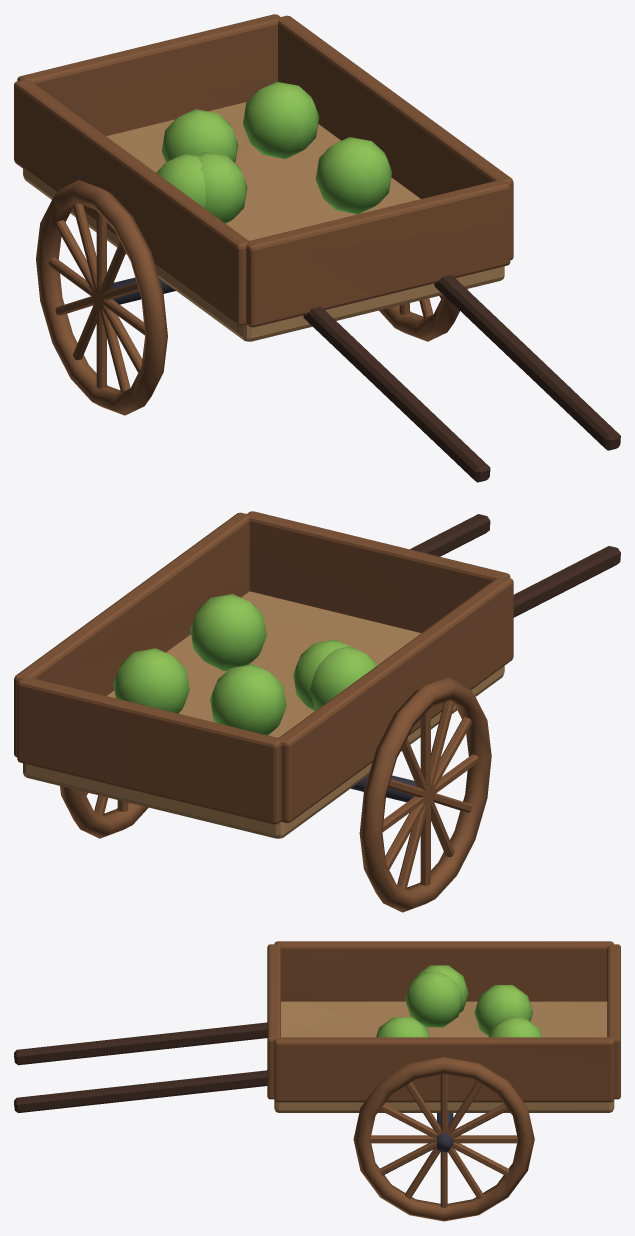
File: cart.glb
The picture shows the model from 3 angles, top to bottom: view 1: azimuth 30°, elevation 25°; view 2: azimuth 150°, elevation 25°; view 3: azimuth 270°, elevation 25°; orthographic projection. The views are drawn at different scales.
Visible parts, largest first — view 1: Body, WheelLMesh, WheelRMesh; view 2: Body, WheelLMesh, WheelRMesh; view 3: Body, WheelRMesh.
Part boxes in pixels (bbox=[...]): Body: bbox=[14, 14, 620, 482]; WheelLMesh: bbox=[36, 180, 167, 415]; WheelRMesh: bbox=[379, 289, 467, 341]; Body: bbox=[14, 511, 620, 838]; WheelLMesh: bbox=[359, 677, 491, 912]; WheelRMesh: bbox=[60, 786, 148, 838]; Body: bbox=[14, 941, 620, 1152]; WheelRMesh: bbox=[353, 1057, 534, 1221].
Bounding box in the file's own units: 1.26 × 0.87 × 2.68.
